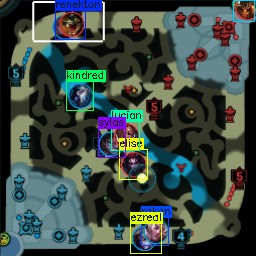elise: (120, 151, 145, 176)
ezreal: (131, 227, 156, 251)
kindred: (69, 85, 93, 109)
lucian: (115, 123, 138, 148)
nautilus: (235, 1, 256, 21)
rakan: (143, 218, 168, 243)
renekton: (60, 12, 84, 37)
sylas: (98, 132, 124, 156)
